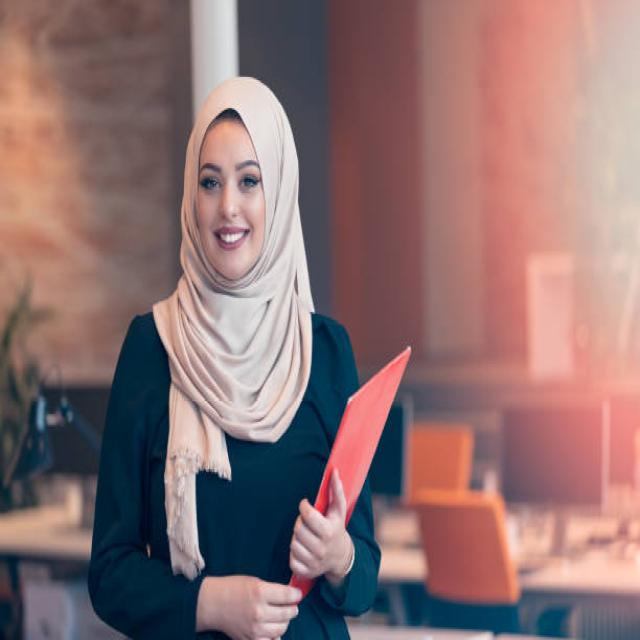mobile_phonerotation: (286, 342, 412, 604)
